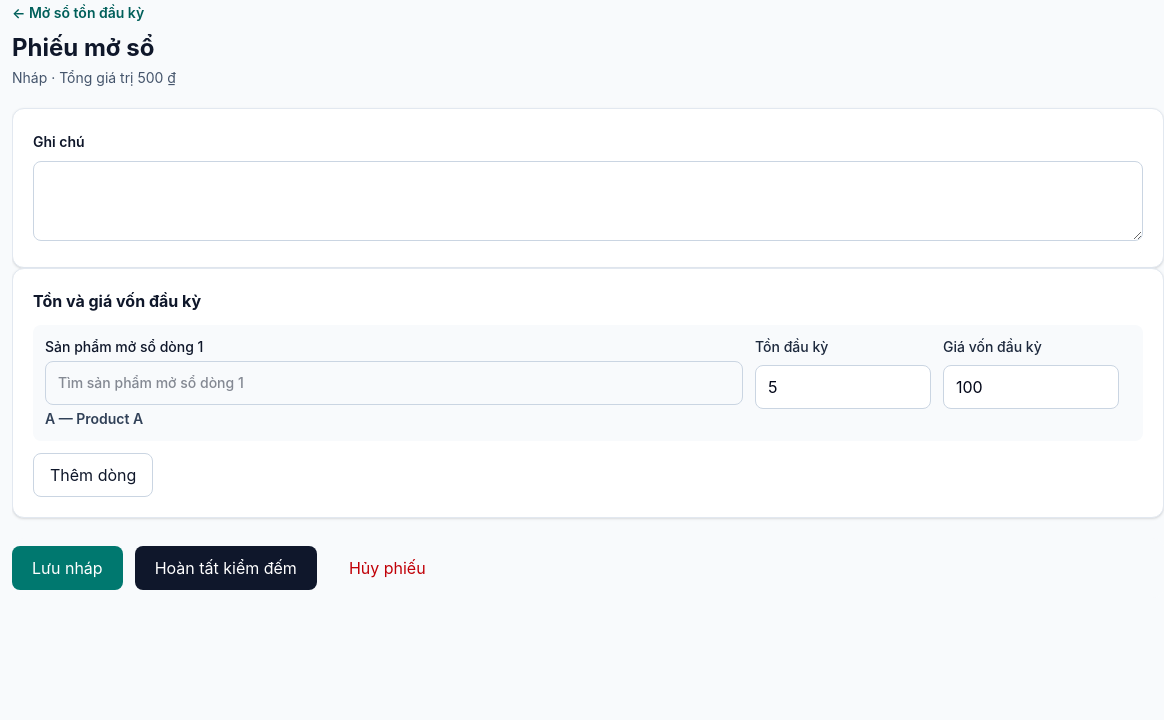
Scenario: opening saved form › keeps edits and blocks submit after save failure
Replace the text in the field labelled "Tồn đầu kỳ" with "9" at (843, 387), box x1=755 y1=365 x2=931 y2=409
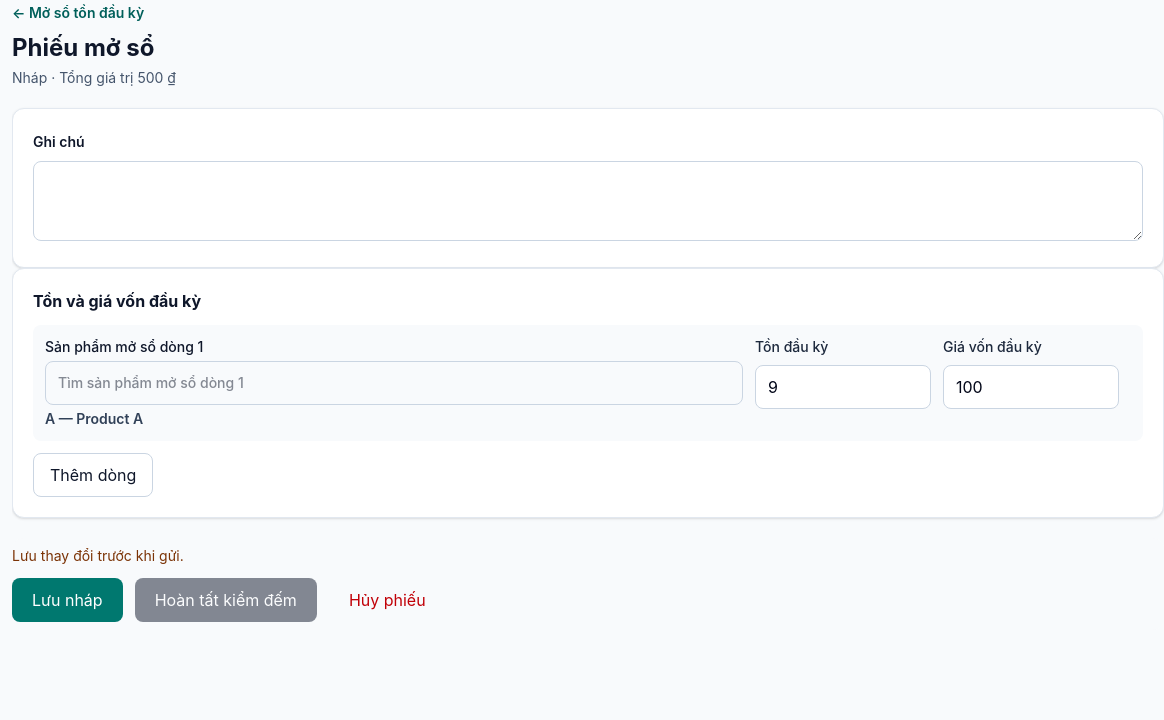
Click the button "Lưu nháp" at (67, 600), box x1=12 y1=578 x2=123 y2=622
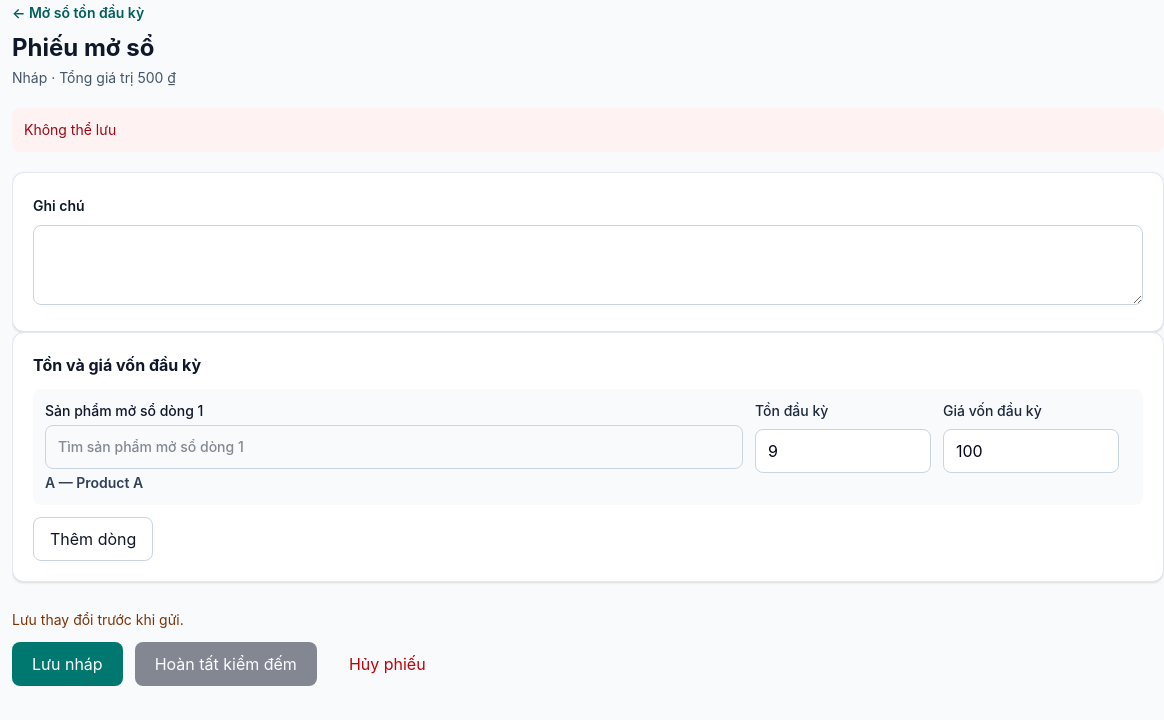
Expected: the button "Hoàn tất kiểm đếm" is disabled, x1=135 y1=642 x2=317 y2=686
Expected: the message "Không thể lưu" is shown, x1=12 y1=108 x2=1163 y2=152
